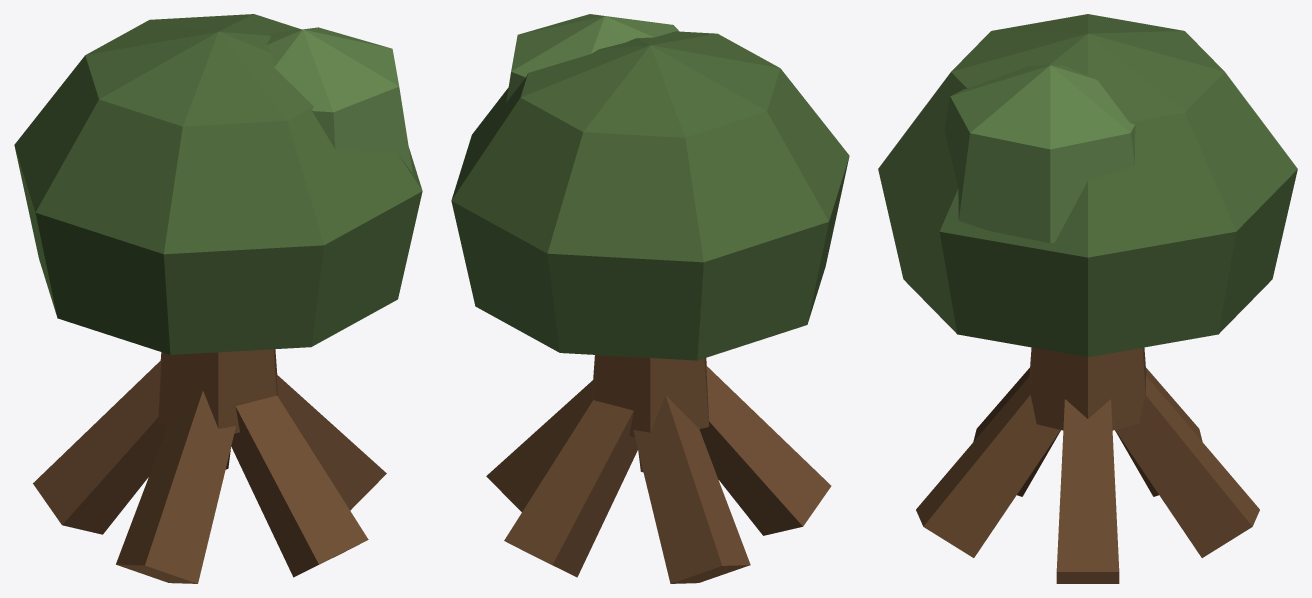
File: env_r6_mangrove_tree.glb
3 renders of one model, left to right at view 1: azimuth 30°, elevation 25°; view 2: azimuth 150°, elevation 25°; view 3: azimuth 270°, elevation 25°, orthographic. The views are drawn at different scales.
Visible parts, largest first — view 1: env_r6_mangrove_tree; view 2: env_r6_mangrove_tree; view 3: env_r6_mangrove_tree.
Part boxes in pixels (box(x1,y1,x2,y2)): env_r6_mangrove_tree: box(14, 14, 422, 583); env_r6_mangrove_tree: box(451, 14, 849, 583); env_r6_mangrove_tree: box(878, 14, 1297, 583).
Bounding box in the file's own units: 3.4 × 4.5 × 3.4.
1 material, 1 textured.
